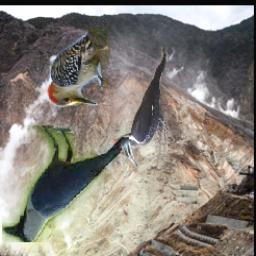Crow: (2, 125, 129, 242)
Woodpecker: (111, 48, 168, 168), (33, 27, 110, 109)
